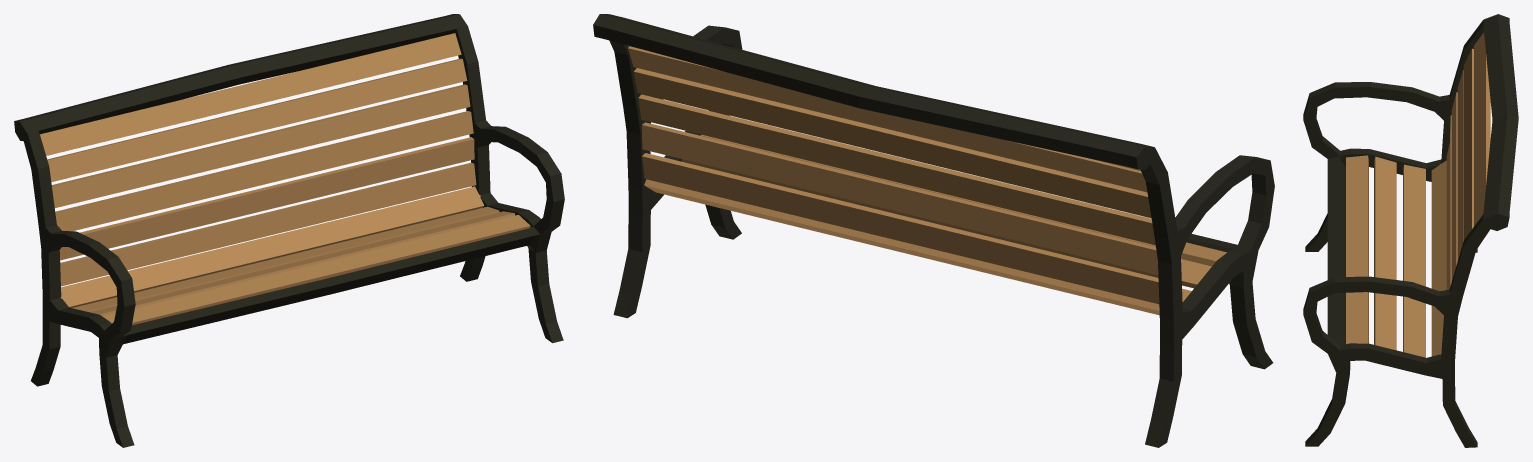
File: bench.fbx
3 views of the same model, side by side, from view 1: azimuth 30°, elevation 25°; view 2: azimuth 150°, elevation 25°; view 3: azimuth 270°, elevation 25° (orthographic). The views are drawn at different scales.
Visible parts, largest first — view 1: Bench; view 2: Bench; view 3: Bench.
Part boxes in pixels (<box>): Bench: <box>14,14,564,447</box>; Bench: <box>593,14,1274,447</box>; Bench: <box>1303,14,1518,447</box>.
Bounding box in the file's own units: 406 × 222 × 185.
